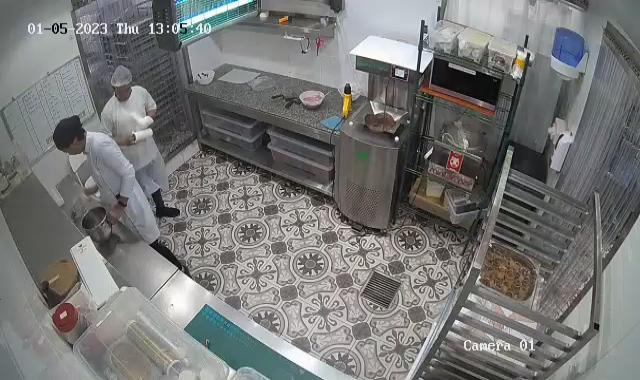hairnet: (110, 66, 132, 88)
no_hairnet: (52, 115, 86, 151)
